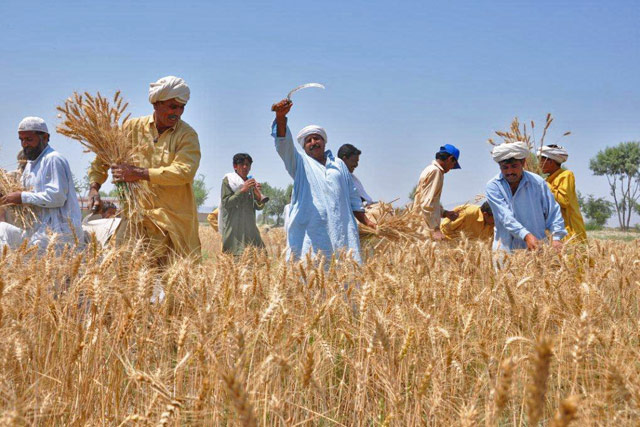human: (87, 72, 212, 258), (263, 83, 364, 270), (479, 144, 567, 259), (402, 138, 473, 256), (522, 135, 583, 244), (215, 151, 272, 265), (321, 137, 372, 208)
